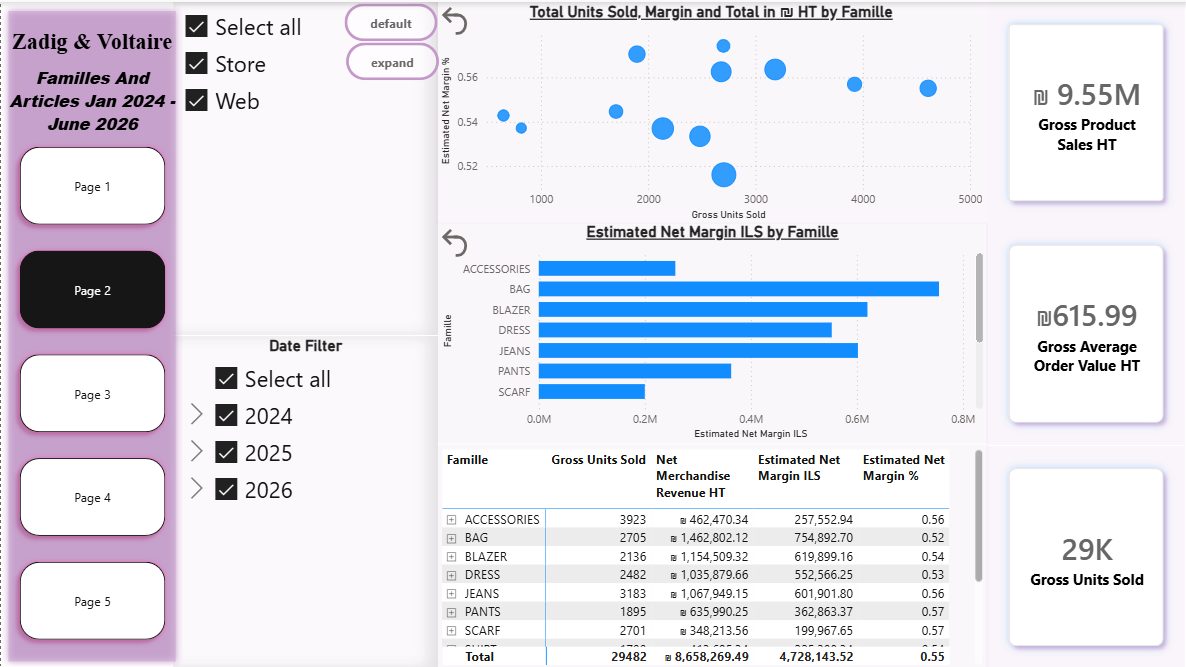

Layout of this report page (visuals, bound fields, positions):
{"tool":"powerbi","page":{"name":"Page 2","canvas":[1280,720],"ordinal":1},"visuals":[{"type":"cardVisual","fields":{"Data":["_Measures.Gross Units Sold"]},"box":[1064.3,479.3,215.2,240],"z":0},{"type":"cardVisual","title":"Net Revenue","fields":{"Data":["_Measures.Gross Product Sales HT"]},"box":[1063.8,0,215.4,239],"z":1000},{"type":"cardVisual","fields":{"Data":["_Measures.Gross Average Order Value HT"]},"box":[1064,237.3,215.4,240.2],"z":2000},{"type":"slicer","title":"Date Filter","fields":{"Values":["dim_calendar.Year","dim_calendar.Month_Name","dim_calendar.Day_Of_Week"]},"box":[186.3,361,285.3,358.1],"z":3000},{"type":"shape","title":"sd","box":[0,1.7,196.7,718.3],"z":6000},{"type":"pageNavigator","box":[11.7,146.7,175,550],"z":7000},{"type":"shape","box":[0,0,196.7,85],"z":8000},{"type":"barChart","fields":{"Category":["dim_products.Famille","dim_products.Designation"],"Y":["_Measures.Estimated Net Margin ILS"]},"box":[471.6,238.7,593.9,238.7],"z":9000},{"type":"scatterChart","title":"Total Units Sold, Margin and Total in ₪ HT by Famille","fields":{"Category":["dim_products.Famille","dim_products.Designation"],"Size":["Sum(fact_sales_items.Final_Total_Line_HT)"],"X":["_Measures.Gross Units Sold"],"Y":["_Measures.Estimated Net Margin %"]},"box":[469.6,0,594.3,239.6],"z":10000},{"type":"pivotTable","fields":{"Rows":["dim_products.Famille","dim_products.Designation"],"Values":["_Measures.Gross Units Sold","_Measures.Net Merchandise Revenue HT","_Measures.Estimated Net Margin ILS","_Measures.Estimated Net Margin %"]},"box":[471.6,477.4,593.9,243.1],"z":11000},{"type":"slicer","title":"Date Filter","fields":{"Values":["fact_sales_items.Channel"]},"box":[186.3,0,285.3,359.5],"z":12000},{"type":"actionButton","title":"dfbfd","box":[371.2,1.5,100.4,40.8],"z":13000},{"type":"actionButton","box":[372.6,43.7,100.4,40.8],"z":15000},{"type":"actionButton","box":[469.6,239.6,43.7,40.5],"z":16000},{"type":"actionButton","box":[469.6,0,43.7,40.5],"z":17000}]}

Visuals, with their boxes on the page's 1280x720 design canvas (x1, y1, x2, y2). These are canvas units, not pixel positions in the 1186x667 screenshot, which may show the page scaled, cropped or inside an application window:
cardVisual - _Measures.Gross Units Sold: crop(1064, 479, 1280, 719)
"Net Revenue" cardVisual: crop(1064, 0, 1279, 239)
cardVisual - _Measures.Gross Average Order Value HT: crop(1064, 237, 1279, 478)
"Date Filter" slicer: crop(186, 361, 472, 719)
"sd" shape: crop(0, 2, 197, 720)
pageNavigator: crop(12, 147, 187, 697)
shape: crop(0, 0, 197, 85)
barChart - dim_products.Famille x dim_products.Designation: crop(472, 239, 1066, 477)
"Total Units Sold, Margin and Total in ₪ HT by Famille" scatterChart: crop(470, 0, 1064, 240)
pivotTable - dim_products.Famille x dim_products.Designation: crop(472, 477, 1066, 720)
"Date Filter" slicer: crop(186, 0, 472, 360)
"dfbfd" actionButton: crop(371, 2, 472, 42)
actionButton: crop(373, 44, 473, 84)
actionButton: crop(470, 240, 513, 280)
actionButton: crop(470, 0, 513, 40)
